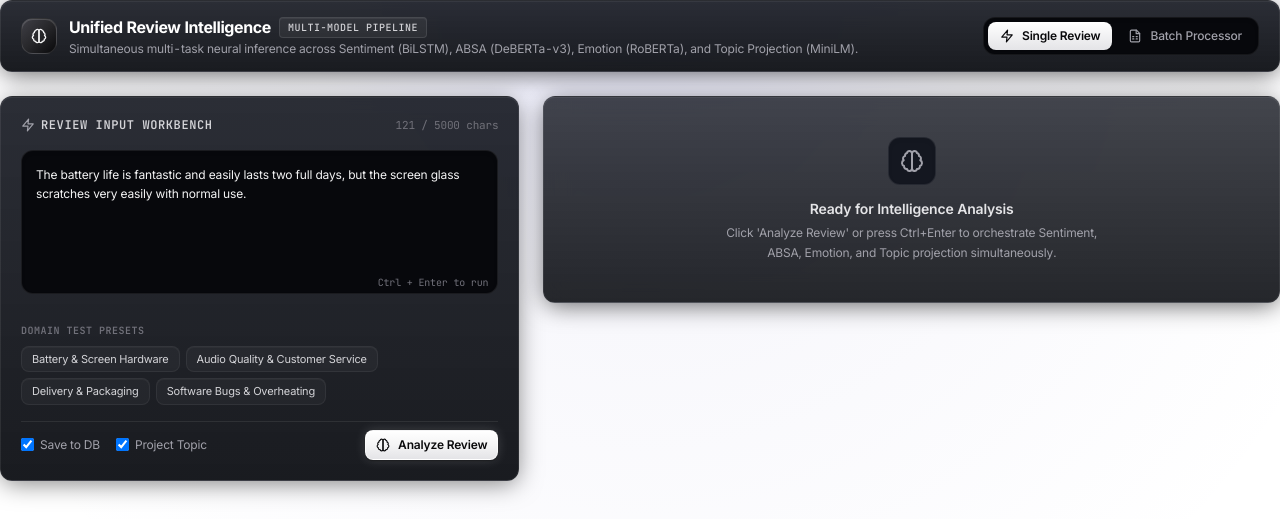
Scenario: ReviewIntelligence Component › populates textarea when clicking a preset chip
Click the button "Audio Quality & Customer Service".
click(282, 359)  # box [186, 346, 378, 372]
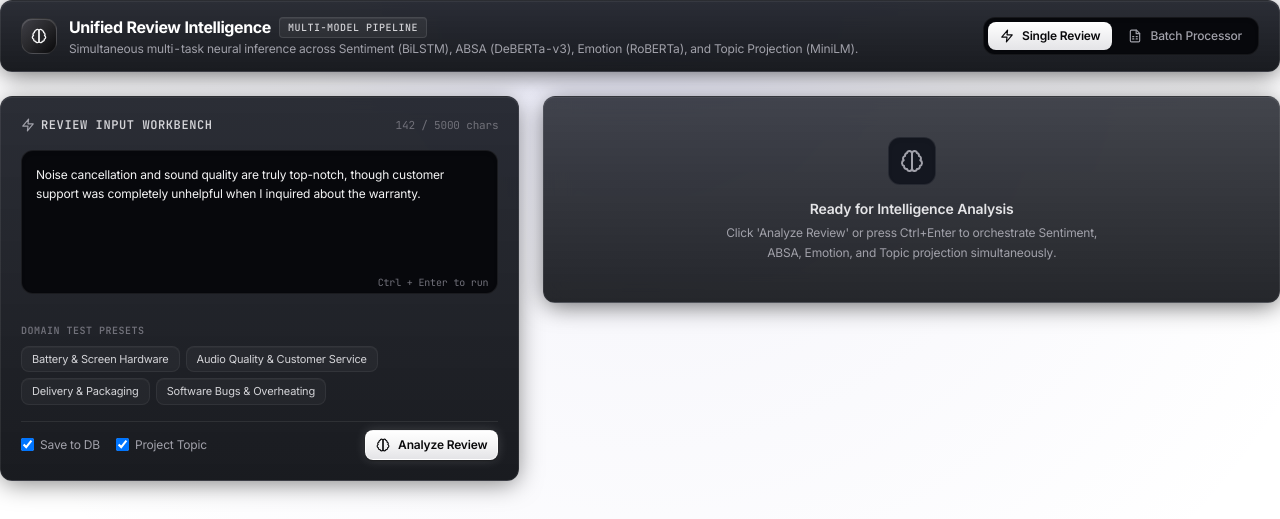
Result: the text box with placeholder "Paste or enter customer review text" holds "Noise cancellation and sound quality are truly top-notch, though customer support was completely unhelpful when I inquired about the warranty." at [21, 150, 498, 294]
